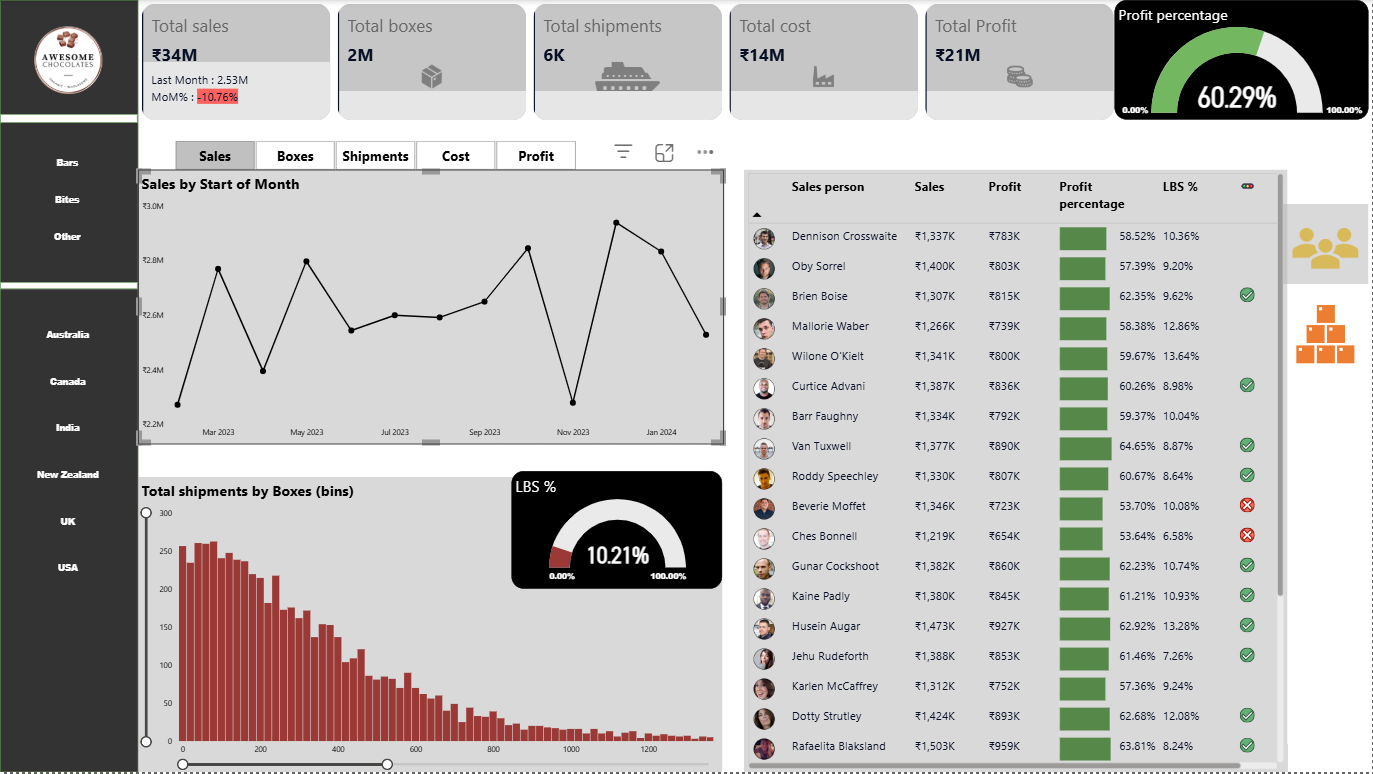

The dashboard page shown, as its layout file describes it:
{"tool":"powerbi","page":{"name":"Sales Report","canvas":[1920,1080],"ordinal":1},"visuals":[{"type":"shape","box":[0,0,193.5,1080.4],"z":0},{"type":"cardVisual","fields":{"Data":["_Measures.Total sales","_Measures.Total boxes","_Measures.Total shipments","_Measures.Total cost","_Measures.Total Profit"]},"box":[193.5,0,1372.1,173.3],"z":1000},{"type":"gauge","fields":{"Y":["_Measures.Profit percentage"]},"box":[1560,0,355,167.5],"z":2000},{"type":"image","box":[10,32.5,170,105],"z":3000},{"type":"lineChart","fields":{"Y":["_Measures.Total Profit"],"Category":["calendar.Start of Month"]},"box":[193.5,236.9,820.4,384.2],"z":4000},{"type":"slicer","fields":{"Values":["Measure Selector.Measure Selector"]},"box":[227.5,197.5,597.5,40],"z":5000},{"type":"columnChart","fields":{"Category":["shipments.Boxes (bins)"],"Y":["_Measures.Total shipments"]},"box":[193.5,667.3,817.5,413.1],"z":6000},{"type":"gauge","fields":{"Y":["_Measures.LBS %"]},"box":[716.4,658.6,294.6,164.7],"z":7000},{"type":"tableEx","title":"Product Details Table","fields":{"Values":["shipments.Product","_Measures.Total sales","_Measures.Total Profit","_Measures.Profit percentage","_Measures.LBS %","_Measures.Profit target Indicator"]},"box":[1042.8,196.4,756.8,883.9],"z":9000},{"type":"slicer","fields":{"Values":["products.Category"]},"box":[17.5,197.5,152.5,165],"z":10000},{"type":"slicer","fields":{"Values":["shipments.Geography"]},"box":[0,430,187.5,402.5],"z":11000},{"type":"shape","box":[0,395,192.5,10],"z":12000},{"type":"shape","box":[0,160,192.5,12.5],"z":13000},{"type":"image","box":[1795,290,120,115],"z":14000},{"type":"image","box":[1795,410,120,115],"z":15000},{"type":"bookmarkNavigator","box":[1795,285,120,235],"z":16000}]}

Visuals, with their boxes on the page's 1920x1080 design canvas (x1, y1, x2, y2). These are canvas units, not pixel positions in the 1373x774 screenshot, which may show the page scaled, cropped or inside an application window:
shape: bbox(0, 0, 194, 1080)
cardVisual - _Measures.Total sales x _Measures.Total boxes: bbox(194, 0, 1566, 173)
gauge - _Measures.Profit percentage: bbox(1560, 0, 1915, 168)
image: bbox(10, 32, 180, 138)
lineChart - _Measures.Total Profit x calendar.Start of Month: bbox(194, 237, 1014, 621)
slicer - Measure Selector.Measure Selector: bbox(228, 198, 825, 238)
columnChart - shipments.Boxes (bins) x _Measures.Total shipments: bbox(194, 667, 1011, 1080)
gauge - _Measures.LBS %: bbox(716, 659, 1011, 823)
"Product Details Table" tableEx: bbox(1043, 196, 1800, 1080)
slicer - products.Category: bbox(18, 198, 170, 362)
slicer - shipments.Geography: bbox(0, 430, 188, 832)
shape: bbox(0, 395, 192, 405)
shape: bbox(0, 160, 192, 172)
image: bbox(1795, 290, 1915, 405)
image: bbox(1795, 410, 1915, 525)
bookmarkNavigator: bbox(1795, 285, 1915, 520)
